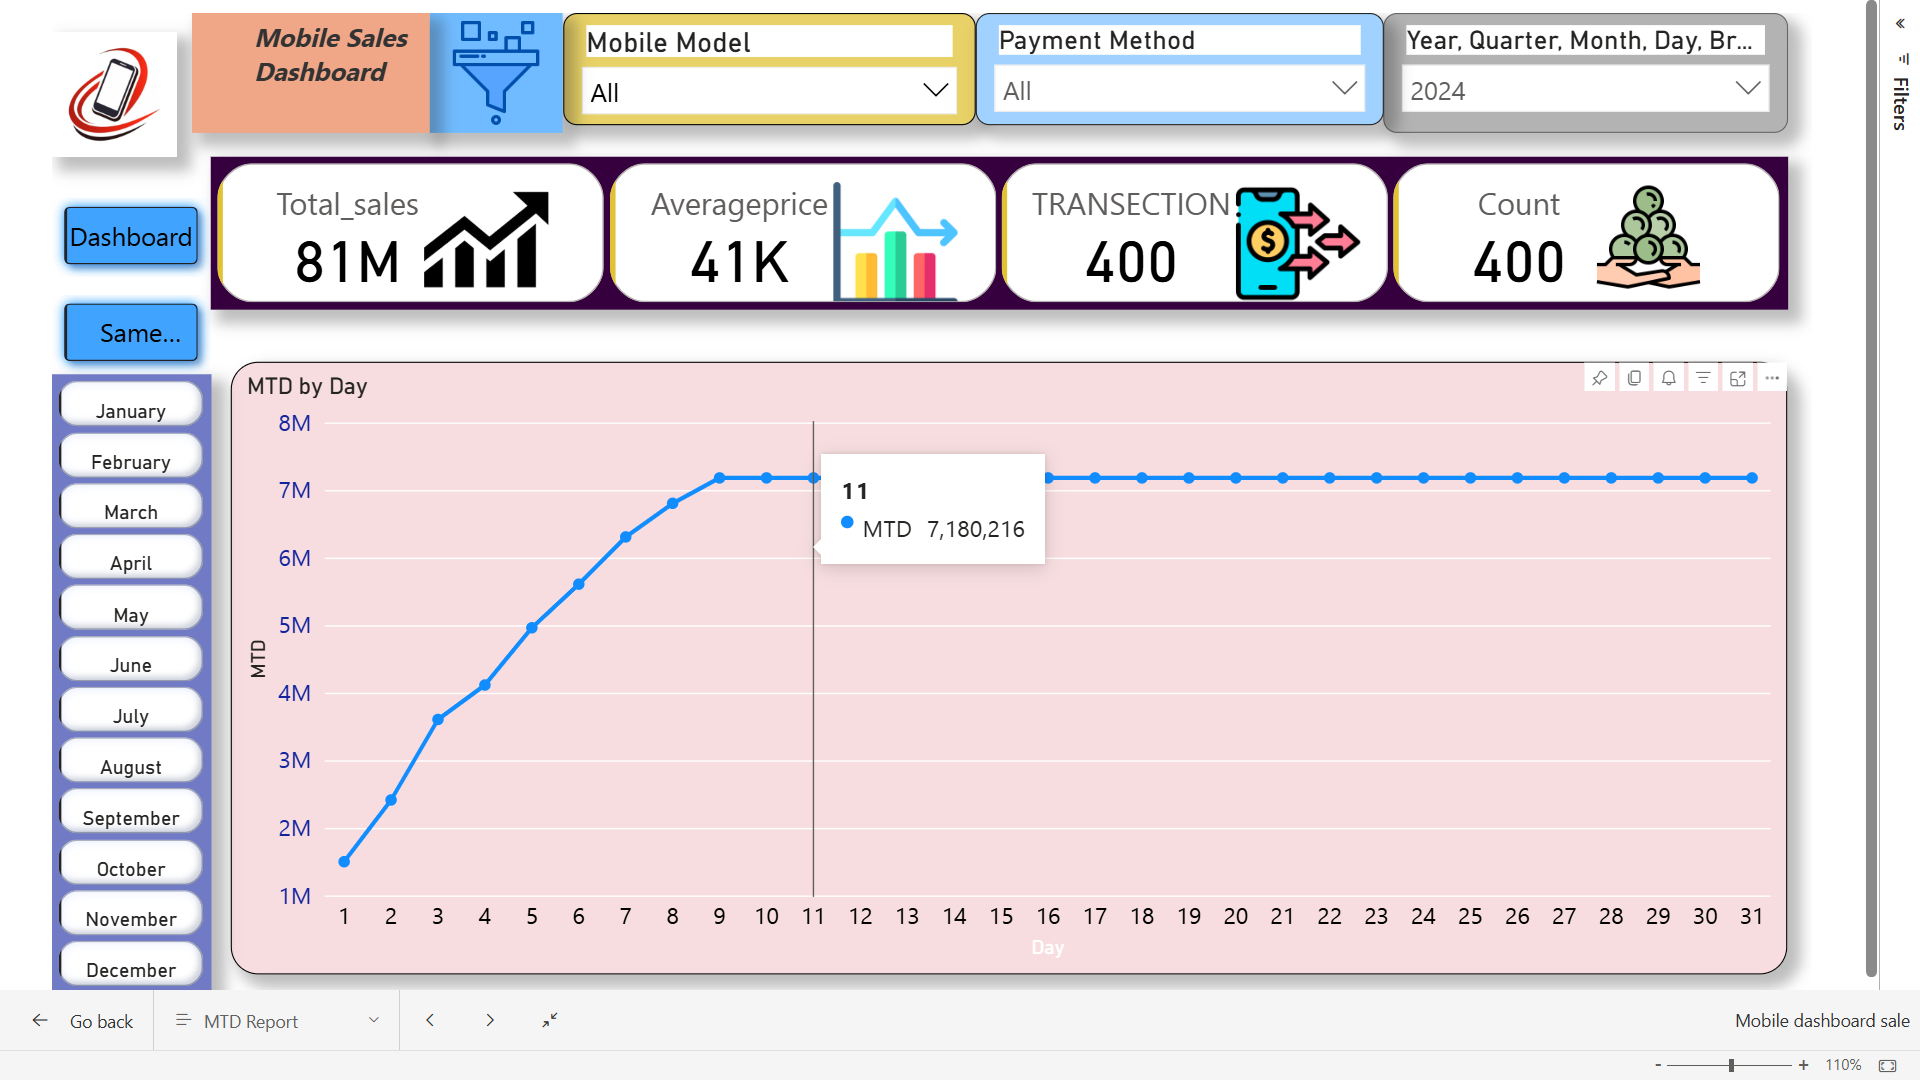

Layout of this report page (visuals, bound fields, positions):
{"tool":"powerbi","page":{"name":"MTD Report","canvas":[1280,720],"ordinal":1},"visuals":[{"type":"image","box":[0,13.3,91.1,91.1],"z":0},{"type":"cardVisual","fields":{"Data":["Mobile_sale_Data.Total_sales","Mobile_sale_Data.Averageprice","Mobile_sale_Data.TRANSECTION","CountNonNull(Mobile_sale_Data.Units Sold)"]},"box":[115.7,104.3,1147.1,111.4],"z":1000},{"type":"slicer","fields":{"Values":["Mobile_sale_Data.Mobile Model"]},"box":[371.4,0,300,81.4],"z":2000},{"type":"slicer","fields":{"Values":["customer_ calender.Date.Variation.Date Hierarchy.Year","customer_ calender.Date.Variation.Date Hierarchy.Quarter","customer_ calender.Date.Variation.Date Hierarchy.Month","customer_ calender.Date.Variation.Date Hierarchy.Day","Mobile_sale_Data.Brand"]},"box":[968.6,0,294.3,87.1],"z":3000},{"type":"slicer","fields":{"Values":["Mobile_sale_Data.Payment Method"]},"box":[671.4,0,297.1,81.4],"z":4000},{"type":"image","box":[274.3,0,97.1,87.1],"z":5000},{"type":"textbox","box":[101.4,0,172.9,87.1],"z":6000},{"type":"lineChart","fields":{"Category":["customer_ calender.Date.Variation.Date Hierarchy.Day"],"Y":["Mobile_sale_Data.MTD"]},"box":[130.4,253.9,1132.1,446],"z":7000},{"type":"advancedSlicerVisual","fields":{"Values":["cousrom calender.Date.Variation.Date Hierarchy.Month"]},"box":[0,262.9,115.7,455.7],"z":8000},{"type":"pageNavigator","box":[0,131.7,115.3,131.7],"z":9000}]}

Visuals, with their boxes on the page's 1280x720 design canvas (x1, y1, x2, y2). These are canvas units, not pixel positions in the 1920x1080 screenshot, which may show the page scaled, cropped or inside an application window:
image: 0/13/91/104
cardVisual - Mobile_sale_Data.Total_sales x Mobile_sale_Data.Averageprice: 116/104/1263/216
slicer - Mobile_sale_Data.Mobile Model: 371/0/671/81
slicer - customer_ calender.Date.Variation.Date Hierarchy.Year x customer_ calender.Date.Variation.Date Hierarchy.Quarter: 969/0/1263/87
slicer - Mobile_sale_Data.Payment Method: 671/0/968/81
image: 274/0/371/87
textbox: 101/0/274/87
lineChart - customer_ calender.Date.Variation.Date Hierarchy.Day x Mobile_sale_Data.MTD: 130/254/1262/700
advancedSlicerVisual - cousrom calender.Date.Variation.Date Hierarchy.Month: 0/263/116/719
pageNavigator: 0/132/115/263
